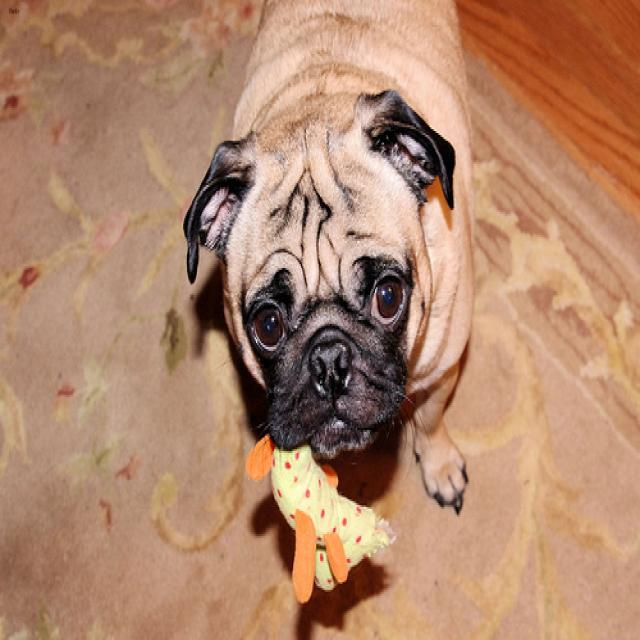dog-pug: (173, 2, 484, 519)
